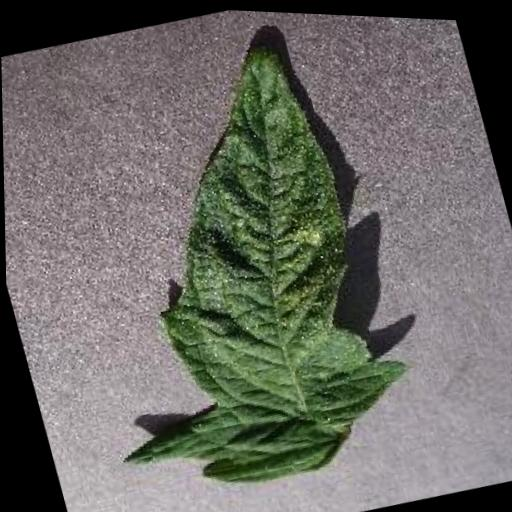Spider Mites: (23, 17, 429, 512)
